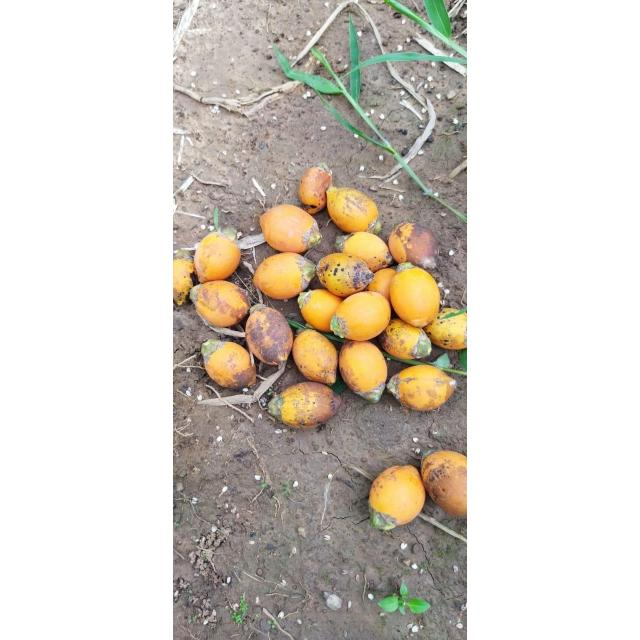good: (368, 465, 427, 529), (266, 382, 342, 430), (386, 364, 456, 412), (389, 265, 441, 327), (420, 449, 466, 518), (258, 204, 322, 253), (244, 304, 294, 366), (331, 292, 392, 342), (252, 253, 316, 300), (338, 340, 388, 400), (200, 338, 256, 389), (291, 328, 339, 384), (194, 280, 250, 328), (325, 186, 379, 232), (336, 232, 394, 274), (388, 222, 438, 270), (194, 232, 242, 282), (378, 318, 434, 360), (298, 289, 344, 333), (424, 308, 466, 350), (298, 166, 332, 212), (367, 268, 395, 302), (219, 227, 239, 243), (189, 284, 201, 302)
